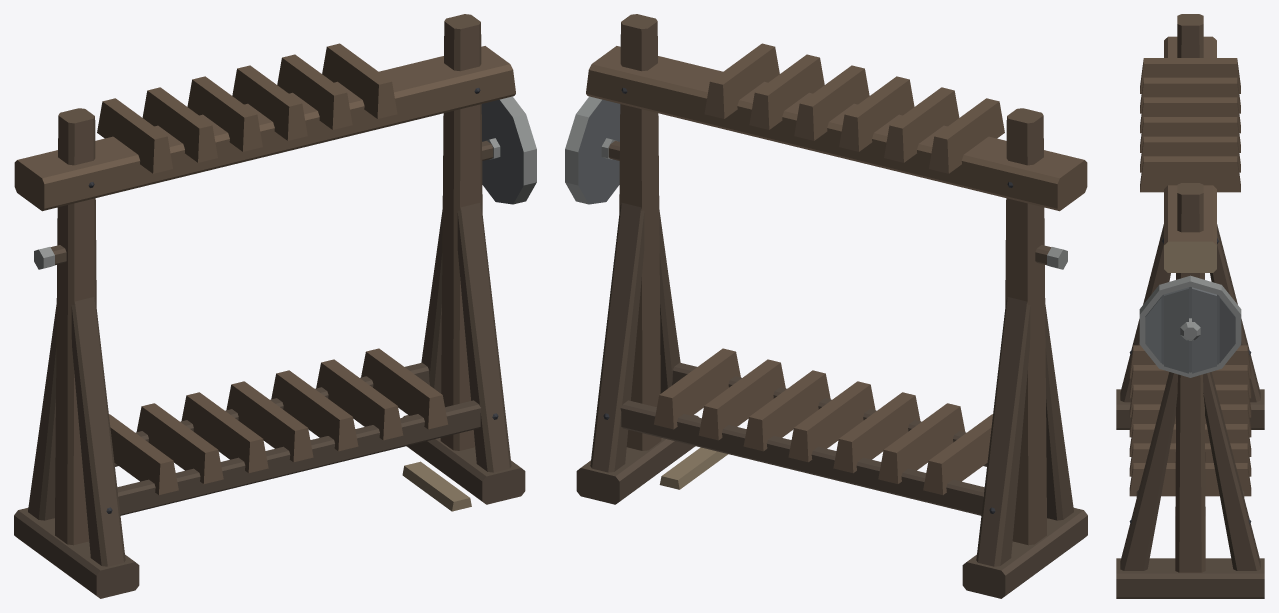
The model's file is weapon-rack-082d7f.glb.
3 views of the same model, side by side, from view 1: azimuth 30°, elevation 25°; view 2: azimuth 150°, elevation 25°; view 3: azimuth 270°, elevation 25° (orthographic). The views are drawn at different scales.
Parts seen in each view (by area): view 1: rack, shield-boards; view 2: rack, shield-boards; view 3: rack, shield-boards.
Part boxes in pixels (x1,y1,x2,y2): rack: (14,14,525,598); shield-boards: (481,96,536,204); rack: (576,14,1087,598); shield-boards: (565,96,620,204); rack: (1116,14,1264,598); shield-boards: (1139,275,1241,377).
Size of the model in its own units: 1.71 by 1.5 by 0.5.
